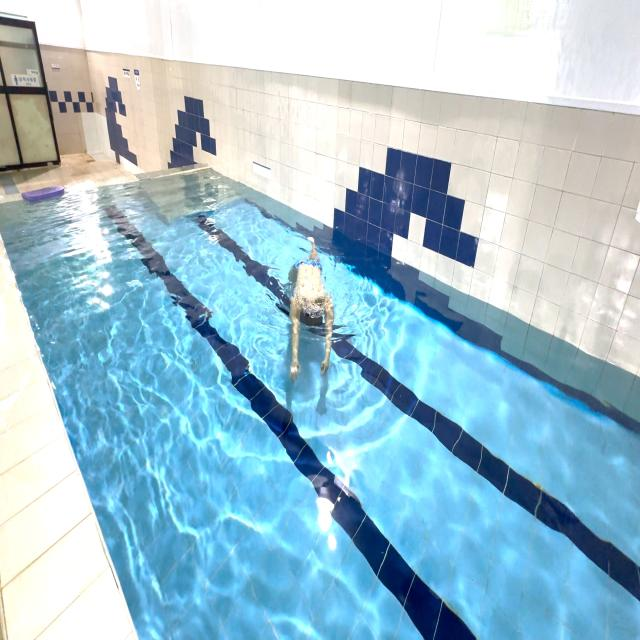Swimming: (267, 218, 348, 397)
